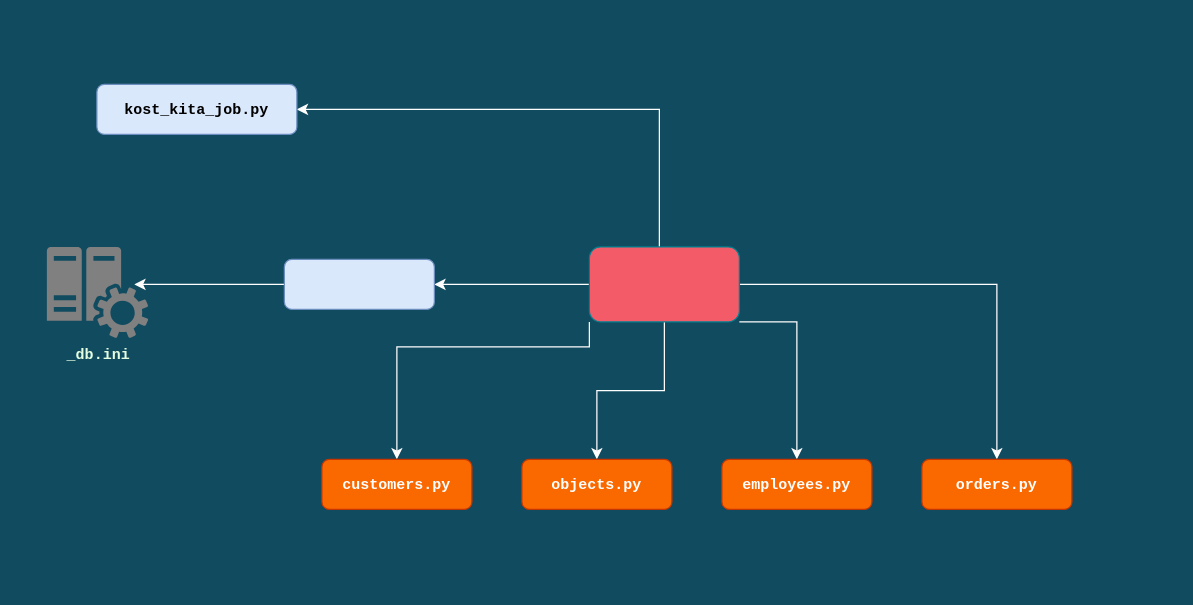
This 1193x605 diagram has some shape labels left out. Here are the shapes that lost their labels. From the top down, the centre of each, then its label:
the point at 358,283: dao.py
the point at 663,284: main.py
